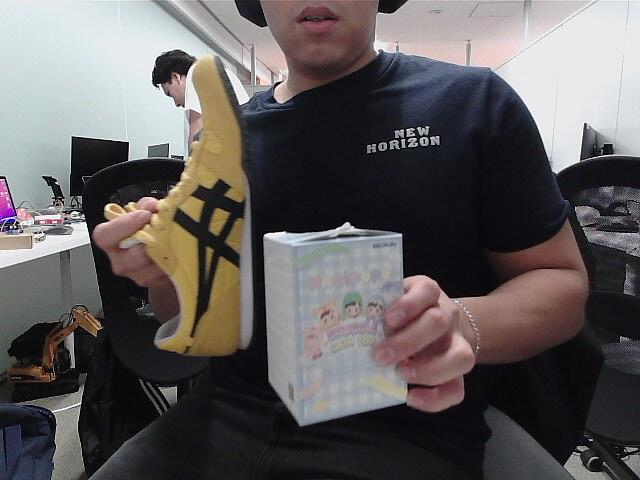Blind_box: (262, 224, 408, 420)
Shoes: (134, 48, 252, 360)
